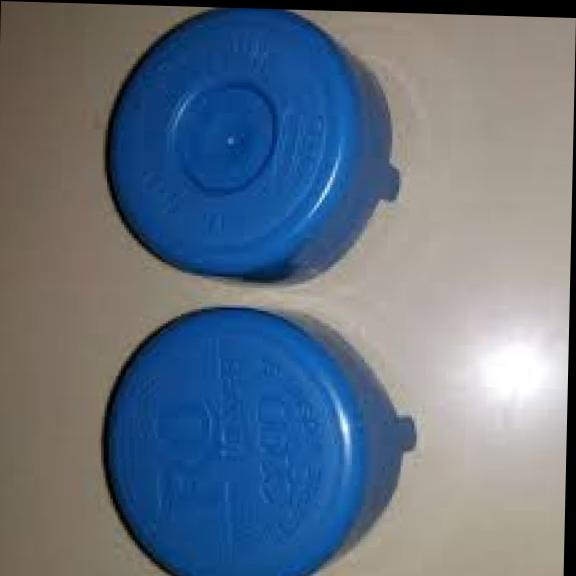Plastik: (100, 305, 415, 576), (102, 8, 398, 285)
